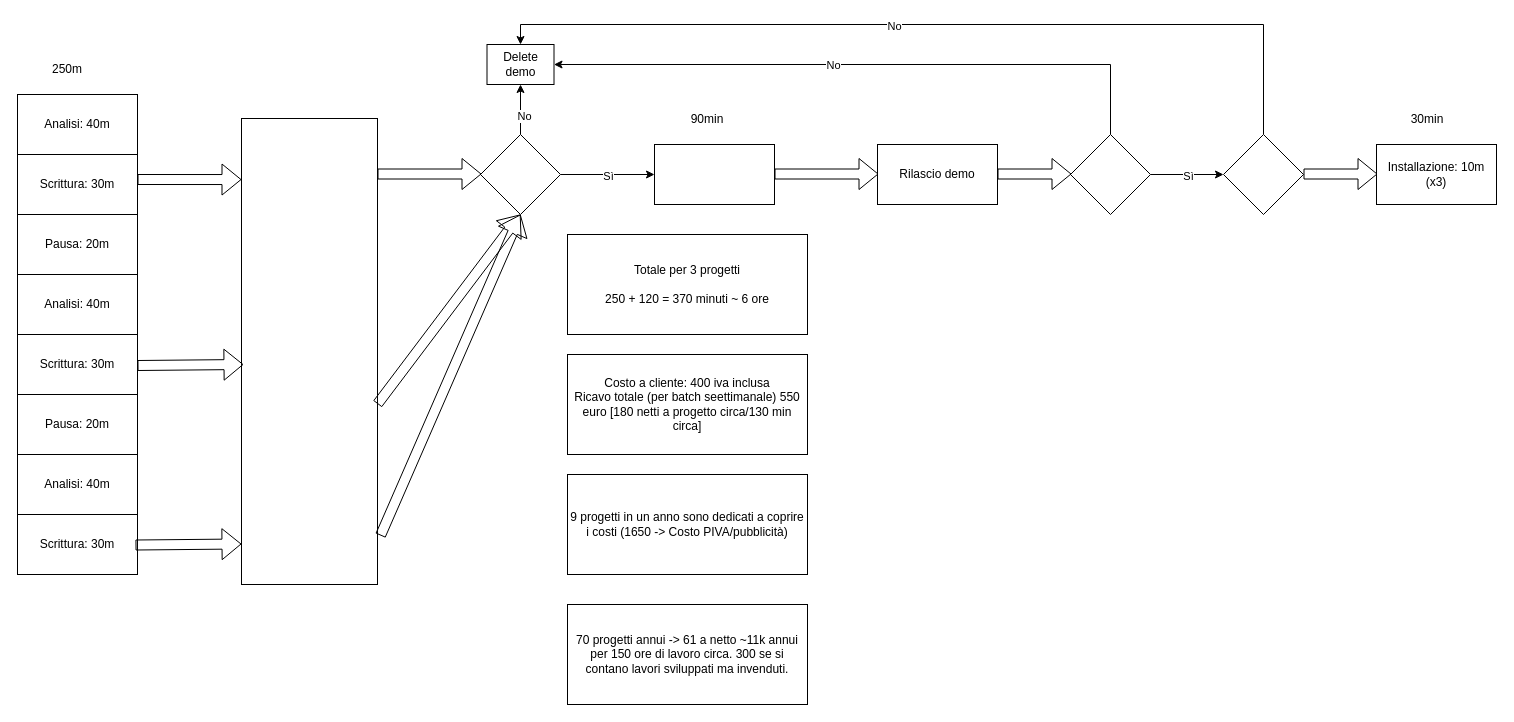
Some shapes in this 1514 by 722 pixel diagram are drawn without their labels. Here are the shapes that lost their labels. From the top down, the box of each, then its label:
(480, 134, 560, 214): Spec approvata
(654, 144, 774, 204): Test e feedback: 30m
(1070, 134, 1150, 214): Utente soddisfatto
(1222, 134, 1304, 214): Utente paga entro 2 giorni?
(240, 118, 378, 584): CREWAI SVILUPPO E DEPLOY LOCALE
